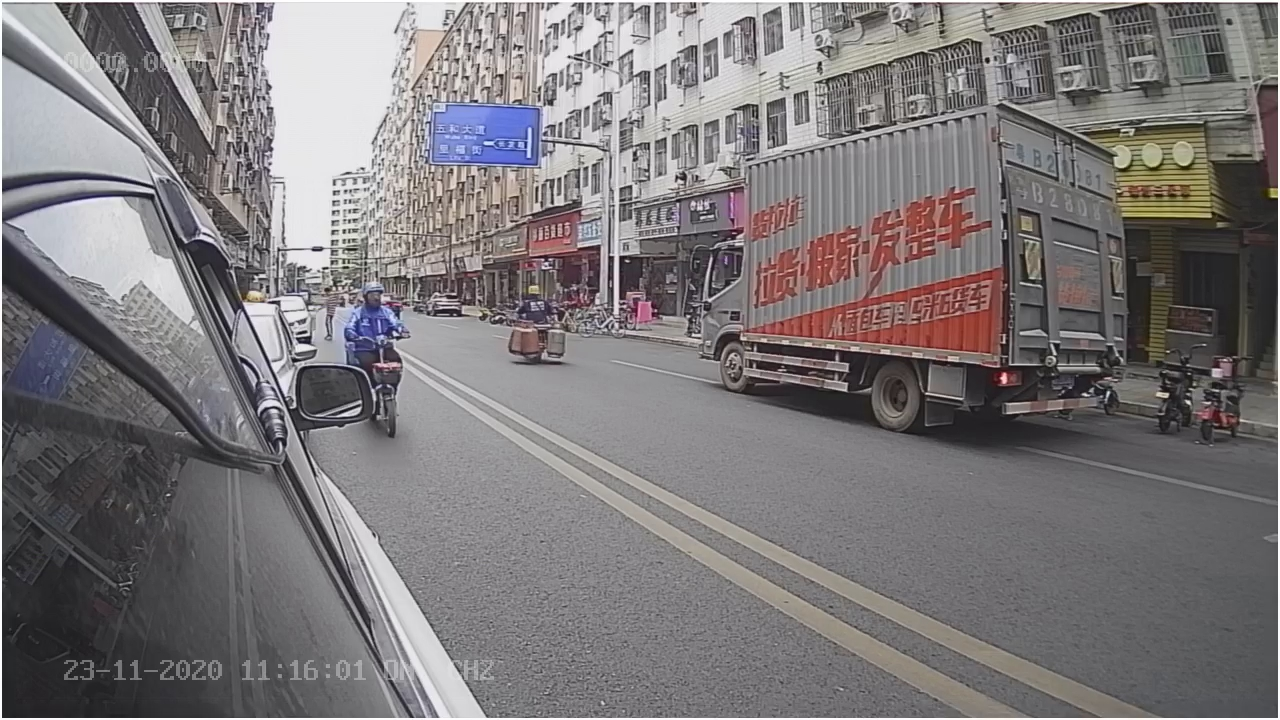person: (341, 278, 409, 346)
